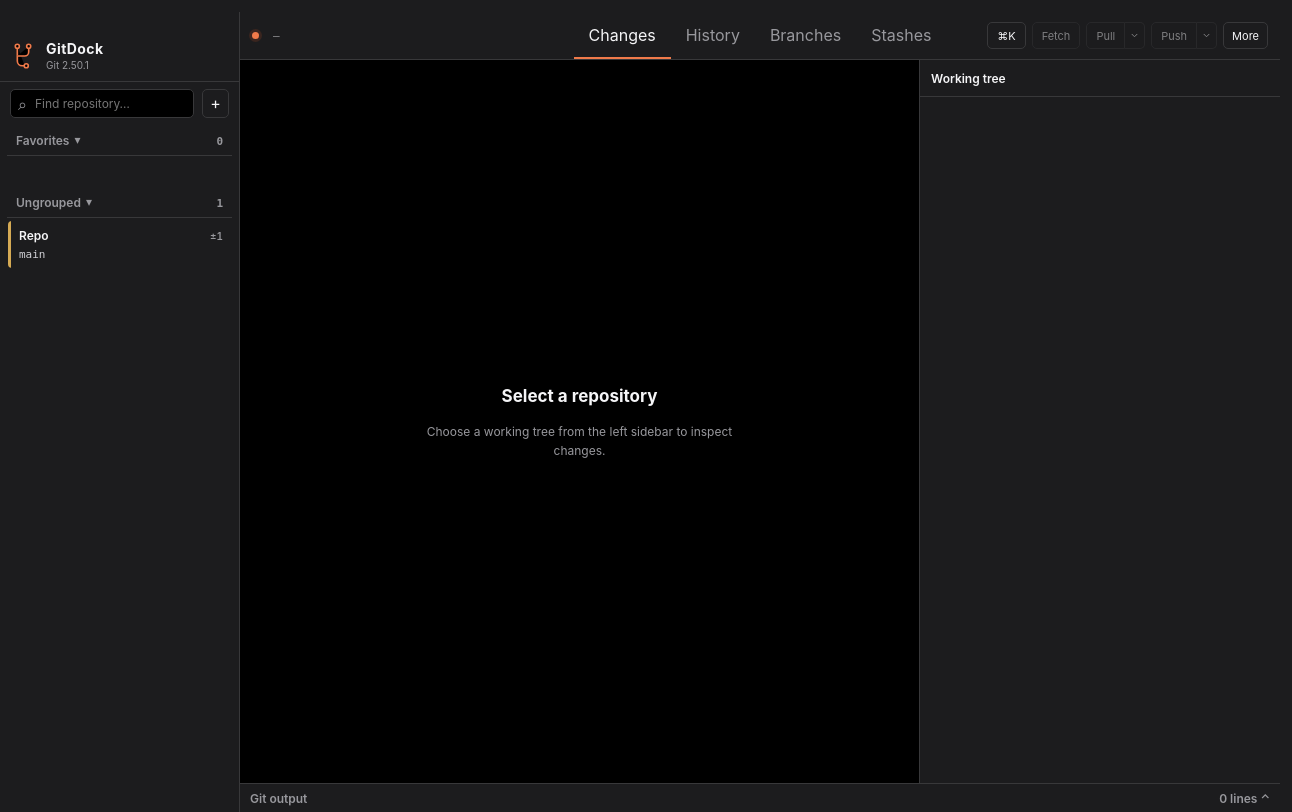
Test: does not offer an ignored-file toggle
The width and height of the screenshot is (1292, 812).
Click the button with class "repo-row" at (120,244), box top-left (7, 220), bottom-right (232, 269)
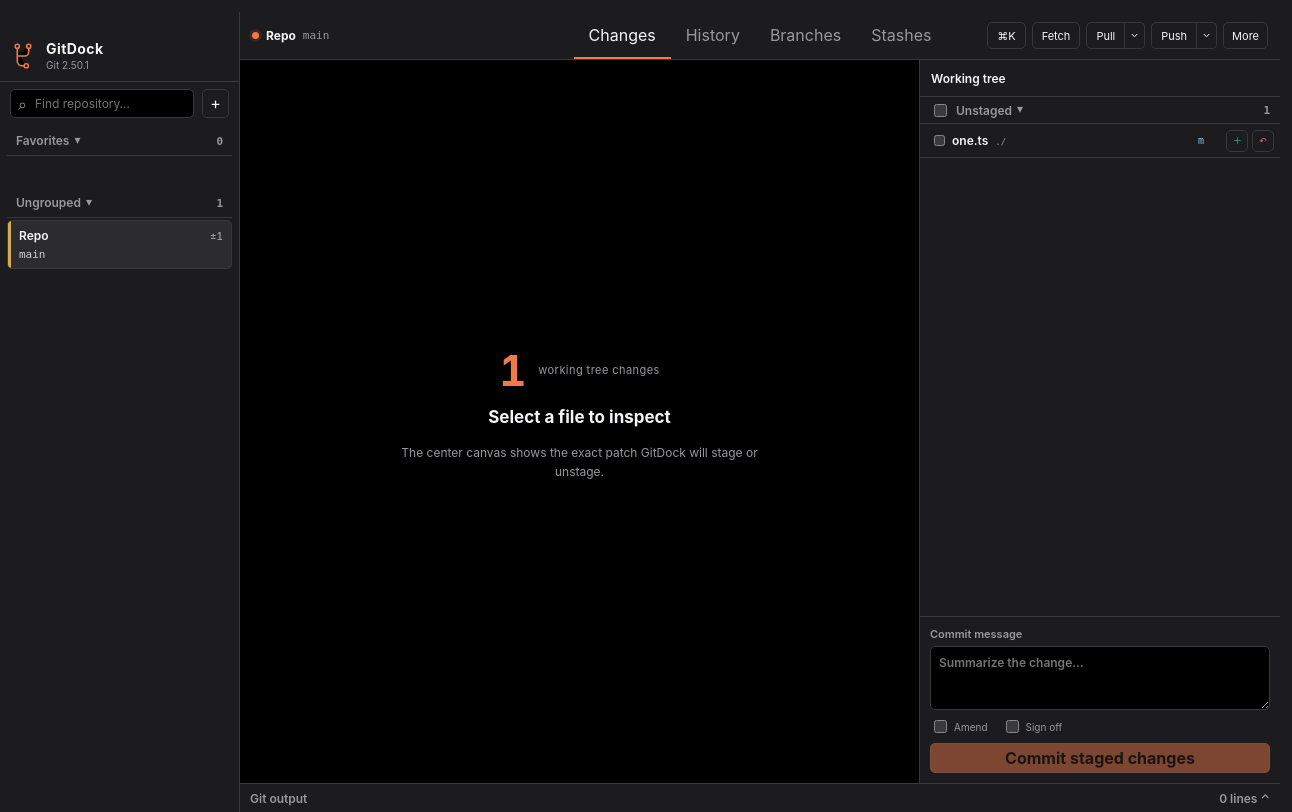
Expected: the checkbox named "Select file to stage one.ts" is shown, top-left (934, 134), bottom-right (945, 147)
